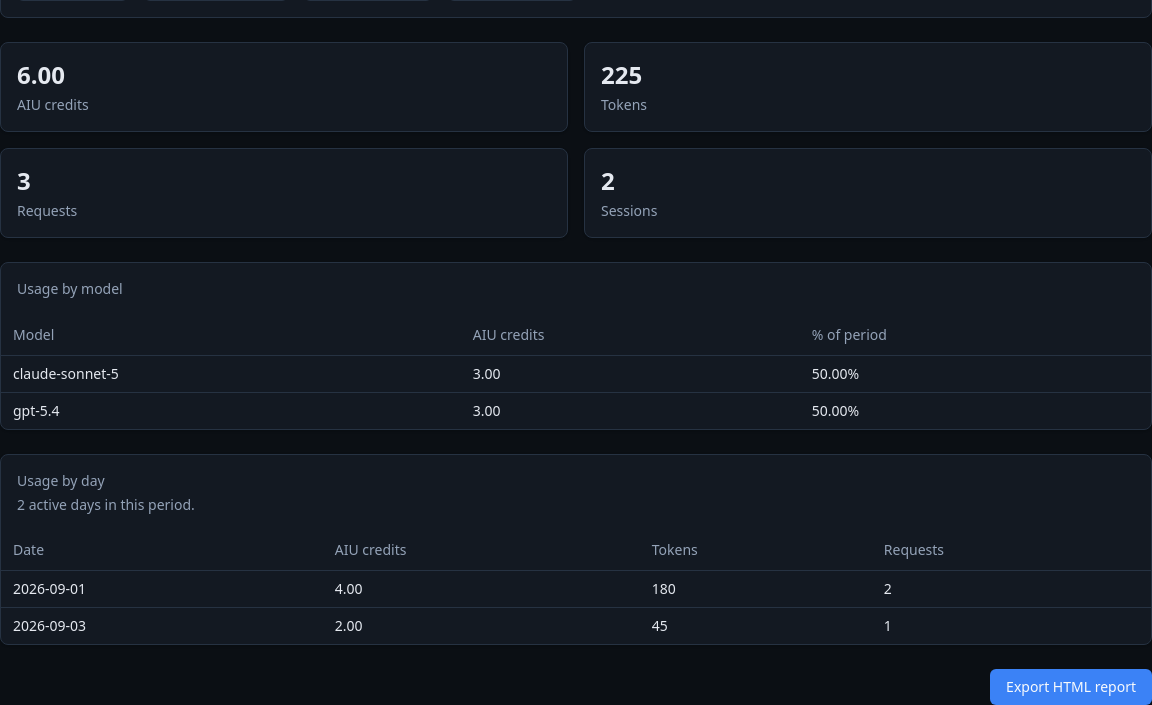
ExportPage › renders the preview cards and exports the current filters in an HTML report
(page scrolled)
Expected: the text "6.00" is shown, [17, 58, 65, 91]
Expected: the text "225" is shown, [601, 58, 642, 91]
Click the button "Export HTML report" at (1071, 687), box [990, 669, 1151, 704]
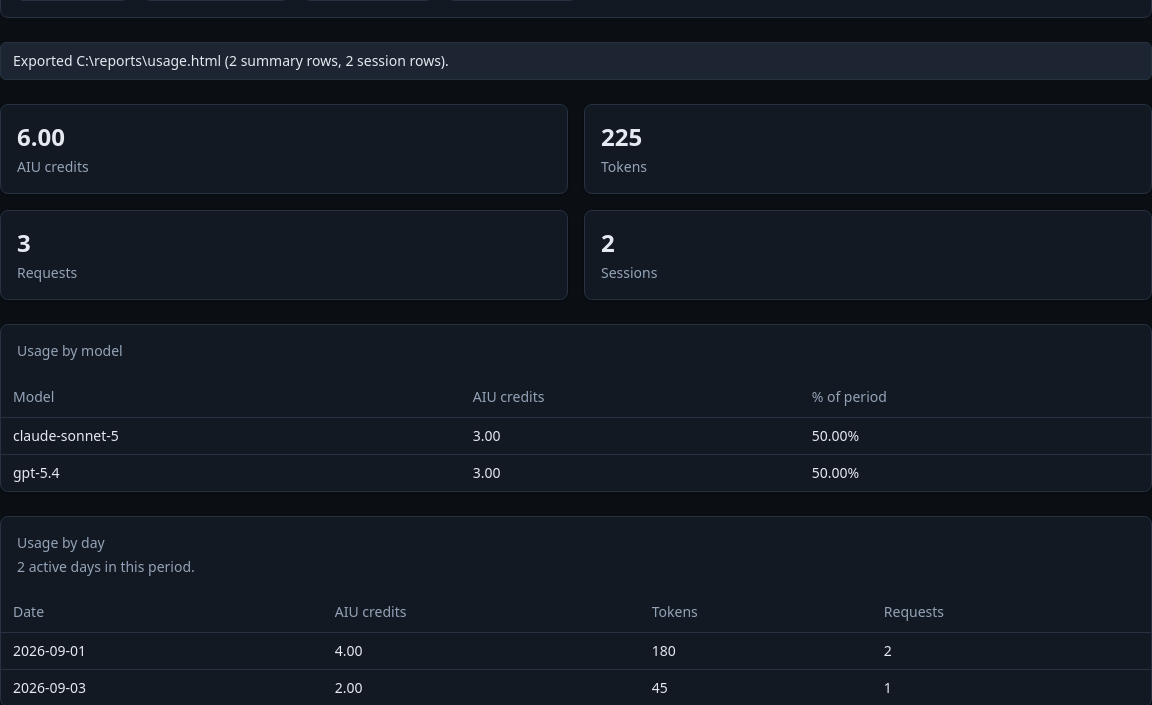
Result: the message shows "usage.html (2 summary rows, 2 session rows)." at [13, 51, 449, 70]
